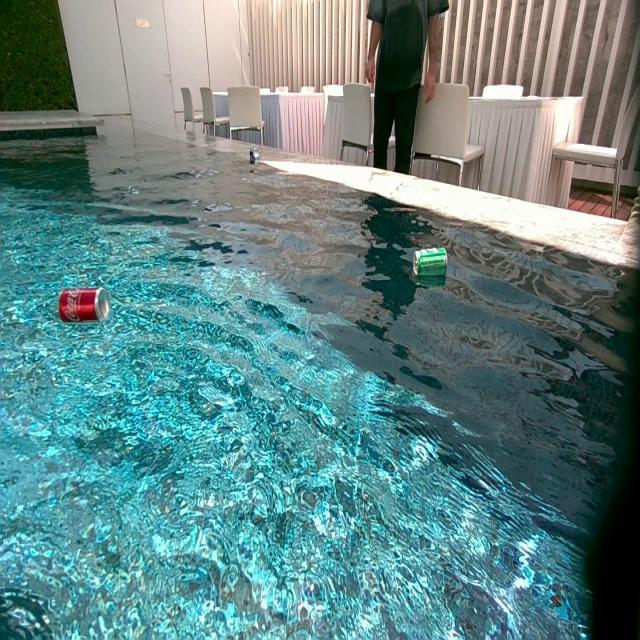Cans: (58, 288, 110, 324), (415, 246, 447, 278)
